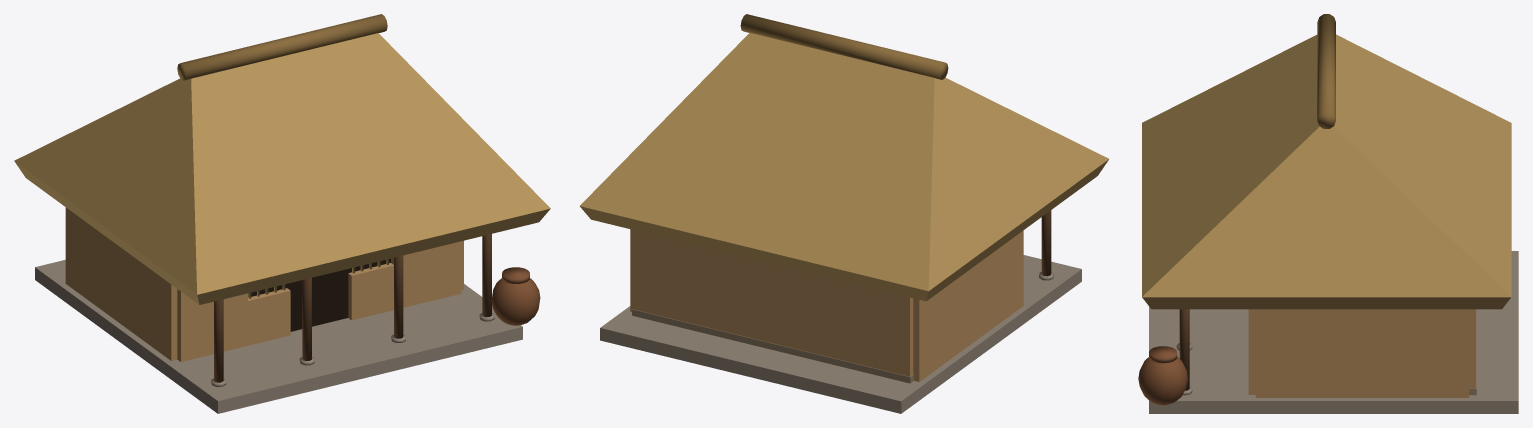
The model's file is house_thatch.glb.
3 renders of one model, left to right at view 1: azimuth 30°, elevation 25°; view 2: azimuth 150°, elevation 25°; view 3: azimuth 270°, elevation 25°, orthographic. The views are drawn at different scales.
Visible parts, largest first — view 1: Main; view 2: Main; view 3: Main.
Boxes of the visible parts, x1,y1,x2,y2 form: Main: [14, 14, 550, 413]; Main: [580, 14, 1108, 413]; Main: [1138, 14, 1518, 413].
Bounding box in the file's own units: 5.8 × 4.27 × 5.35.
